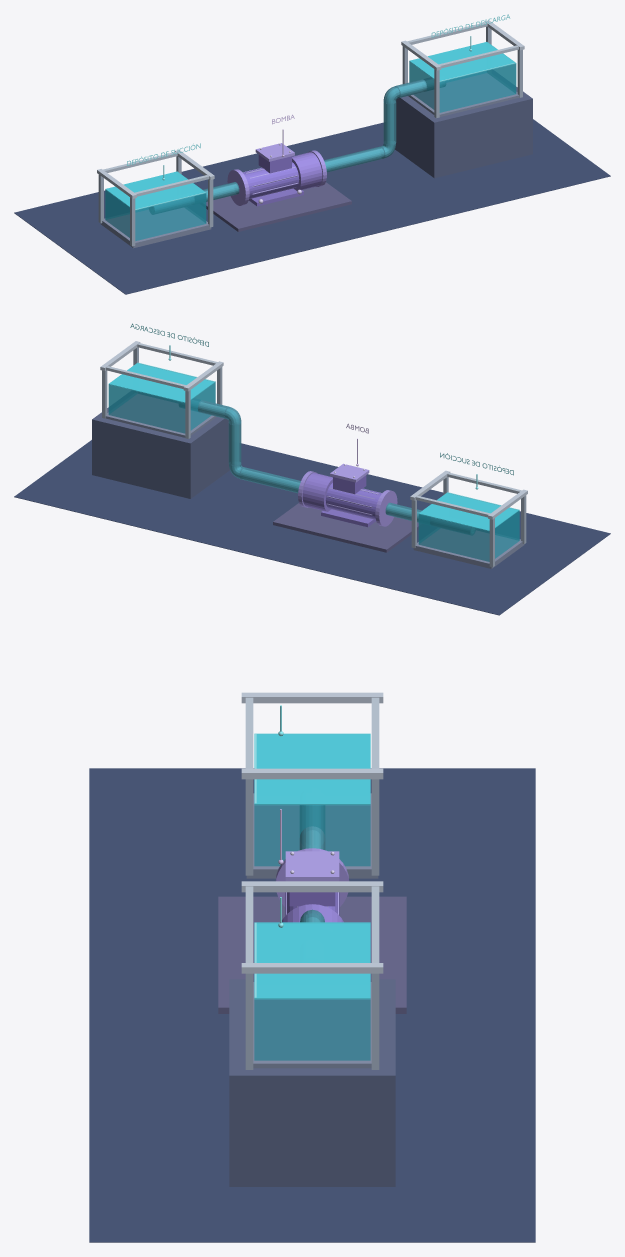
Rendered from instalacion_base.glb.
3 views of the same model, one above another, from view 1: azimuth 30°, elevation 25°; view 2: azimuth 150°, elevation 25°; view 3: azimuth 270°, elevation 25° (orthographic). The views are drawn at different scales.
Visible parts, largest first — view 1: Suelo oscuro, Pedestal depósito de descarga, Base de bomba, Depósito de descarga / volumen de agua, Depósito de succión / volumen de agua, Depósito de succión / fondo, Depósito de descarga / fondo, Depósito de descarga / superficie de agua, Depósito de succión / superficie de agua, Motor / carcasa, Voluta / cuerpo, Descarga horizontal inferior / exterior (+11 smaller); view 2: Suelo oscuro, Pedestal depósito de descarga, Base de bomba, Depósito de descarga / volumen de agua, Depósito de succión / volumen de agua, Depósito de succión / fondo, Depósito de descarga / fondo, Depósito de descarga / superficie de agua, Depósito de succión / superficie de agua, Motor / carcasa, Voluta / cuerpo, Descarga horizontal inferior / exterior (+10 smaller); view 3: Suelo oscuro, Pedestal depósito de descarga, Depósito de descarga / fondo, Depósito de descarga / superficie de agua, Depósito de descarga / volumen de agua, Base de bomba, Depósito de succión / superficie de agua, Depósito de succión / fondo, Depósito de succión / volumen de agua, Depósito de succión / borde lateral +1, Bomba / tapa de caja, Depósito de descarga / borde lateral -1 (+7 smaller).
Part boxes in pixels (<box>): Suelo oscuro: <box>14,119,610,294</box>; Pedestal depósito de descarga: <box>395,87,532,178</box>; Base de bomba: <box>206,182,351,231</box>; Depósito de descarga / volumen de agua: <box>409,61,516,112</box>; Depósito de succión / volumen de agua: <box>105,190,206,240</box>; Depósito de succión / fondo: <box>100,207,211,248</box>; Depósito de descarga / fondo: <box>408,73,519,116</box>; Depósito de descarga / superficie de agua: <box>409,42,516,81</box>; Depósito de succión / superficie de agua: <box>105,171,206,210</box>; Motor / carcasa: <box>243,162,299,198</box>; Voluta / cuerpo: <box>292,152,322,190</box>; Descarga horizontal inferior / exterior: <box>324,146,385,172</box>; Suelo oscuro: <box>14,440,610,615</box>; Pedestal depósito de descarga: <box>92,407,229,498</box>; Base de bomba: <box>273,503,418,552</box>; Depósito de descarga / volumen de agua: <box>108,382,215,433</box>; Depósito de succión / volumen de agua: <box>418,510,519,561</box>; Depósito de succión / fondo: <box>413,528,524,568</box>; Depósito de descarga / fondo: <box>105,393,216,437</box>; Depósito de descarga / superficie de agua: <box>109,362,215,402</box>; Depósito de succión / superficie de agua: <box>418,492,519,531</box>; Motor / carcasa: <box>325,483,381,519</box>; Voluta / cuerpo: <box>302,473,332,511</box>; Descarga horizontal inferior / exterior: <box>239,467,300,493</box>; Suelo oscuro: <box>89,768,535,1242</box>; Pedestal depósito de descarga: <box>229,979,395,1186</box>; Depósito de descarga / fondo: <box>253,982,371,1068</box>; Depósito de descarga / superficie de agua: <box>254,922,370,999</box>; Depósito de descarga / volumen de agua: <box>254,999,370,1060</box>; Base de bomba: <box>218,896,406,1013</box>; Depósito de succión / superficie de agua: <box>254,733,370,804</box>; Depósito de succión / fondo: <box>246,793,378,878</box>; Depósito de succión / volumen de agua: <box>254,805,370,866</box>; Depósito de succión / borde lateral +1: <box>241,768,383,779</box>; Bomba / tapa de caja: <box>285,851,339,881</box>; Depósito de descarga / borde lateral -1: <box>241,881,383,892</box>.
Size of the model in its own units: 12.8 by 3.57 by 5.1.
